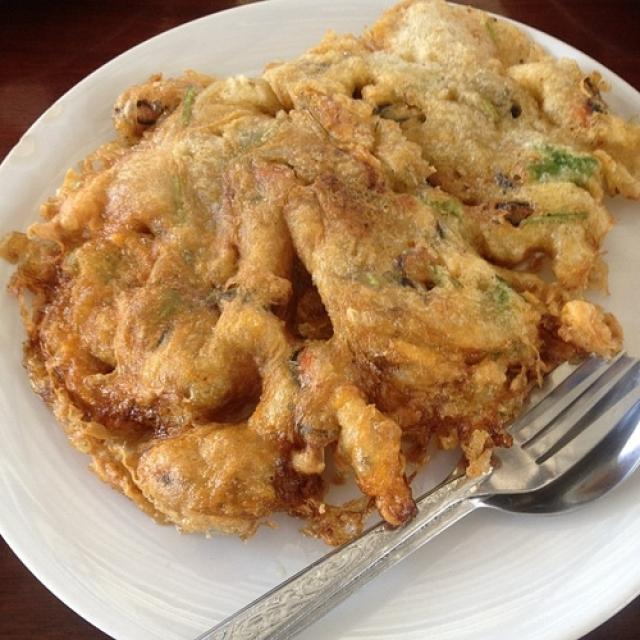炸货点心: (12, 8, 627, 623)
蛋糕甜品: (12, 8, 627, 623)
